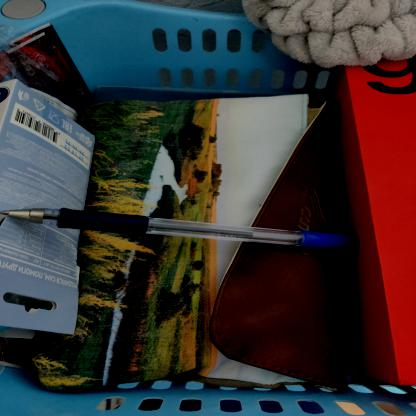Pen: (1, 185, 366, 274)
